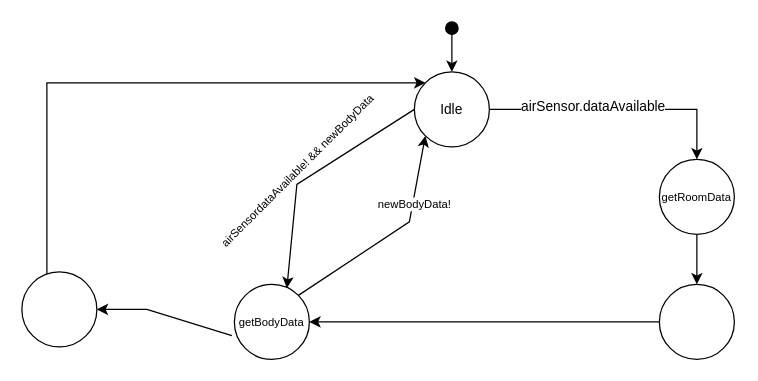
Some shapes in this 758 by 381 pixel diagram are drawn without their labels. Each missing label, with the centre of its shape:
sendBodyData toKNX: point (59, 309)
sendRoomData toKNX: point (696, 321)
